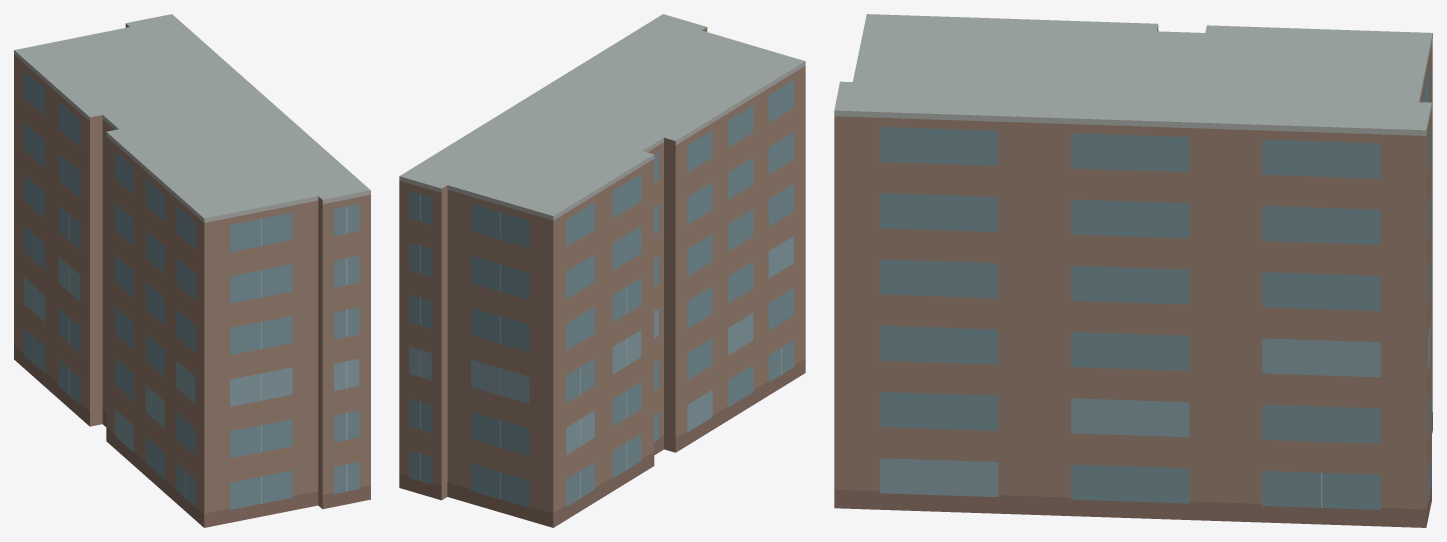
Rendered from survey-upis-32768686.glb.
3 renders of one model, left to right at view 1: azimuth 30°, elevation 25°; view 2: azimuth 150°, elevation 25°; view 3: azimuth 270°, elevation 25°, orthographic. The views are drawn at different scales.
Parts seen in each view (by area): view 1: survey-upis-32768686.tmp; view 2: survey-upis-32768686.tmp; view 3: survey-upis-32768686.tmp.
Boxes of the visible parts, box(x1,y1,x2,y2) form: survey-upis-32768686.tmp: box(14, 14, 370, 527); survey-upis-32768686.tmp: box(399, 14, 805, 527); survey-upis-32768686.tmp: box(834, 14, 1432, 527).
Bounding box in the file's own units: 10.8 × 17.2 × 23.47.
